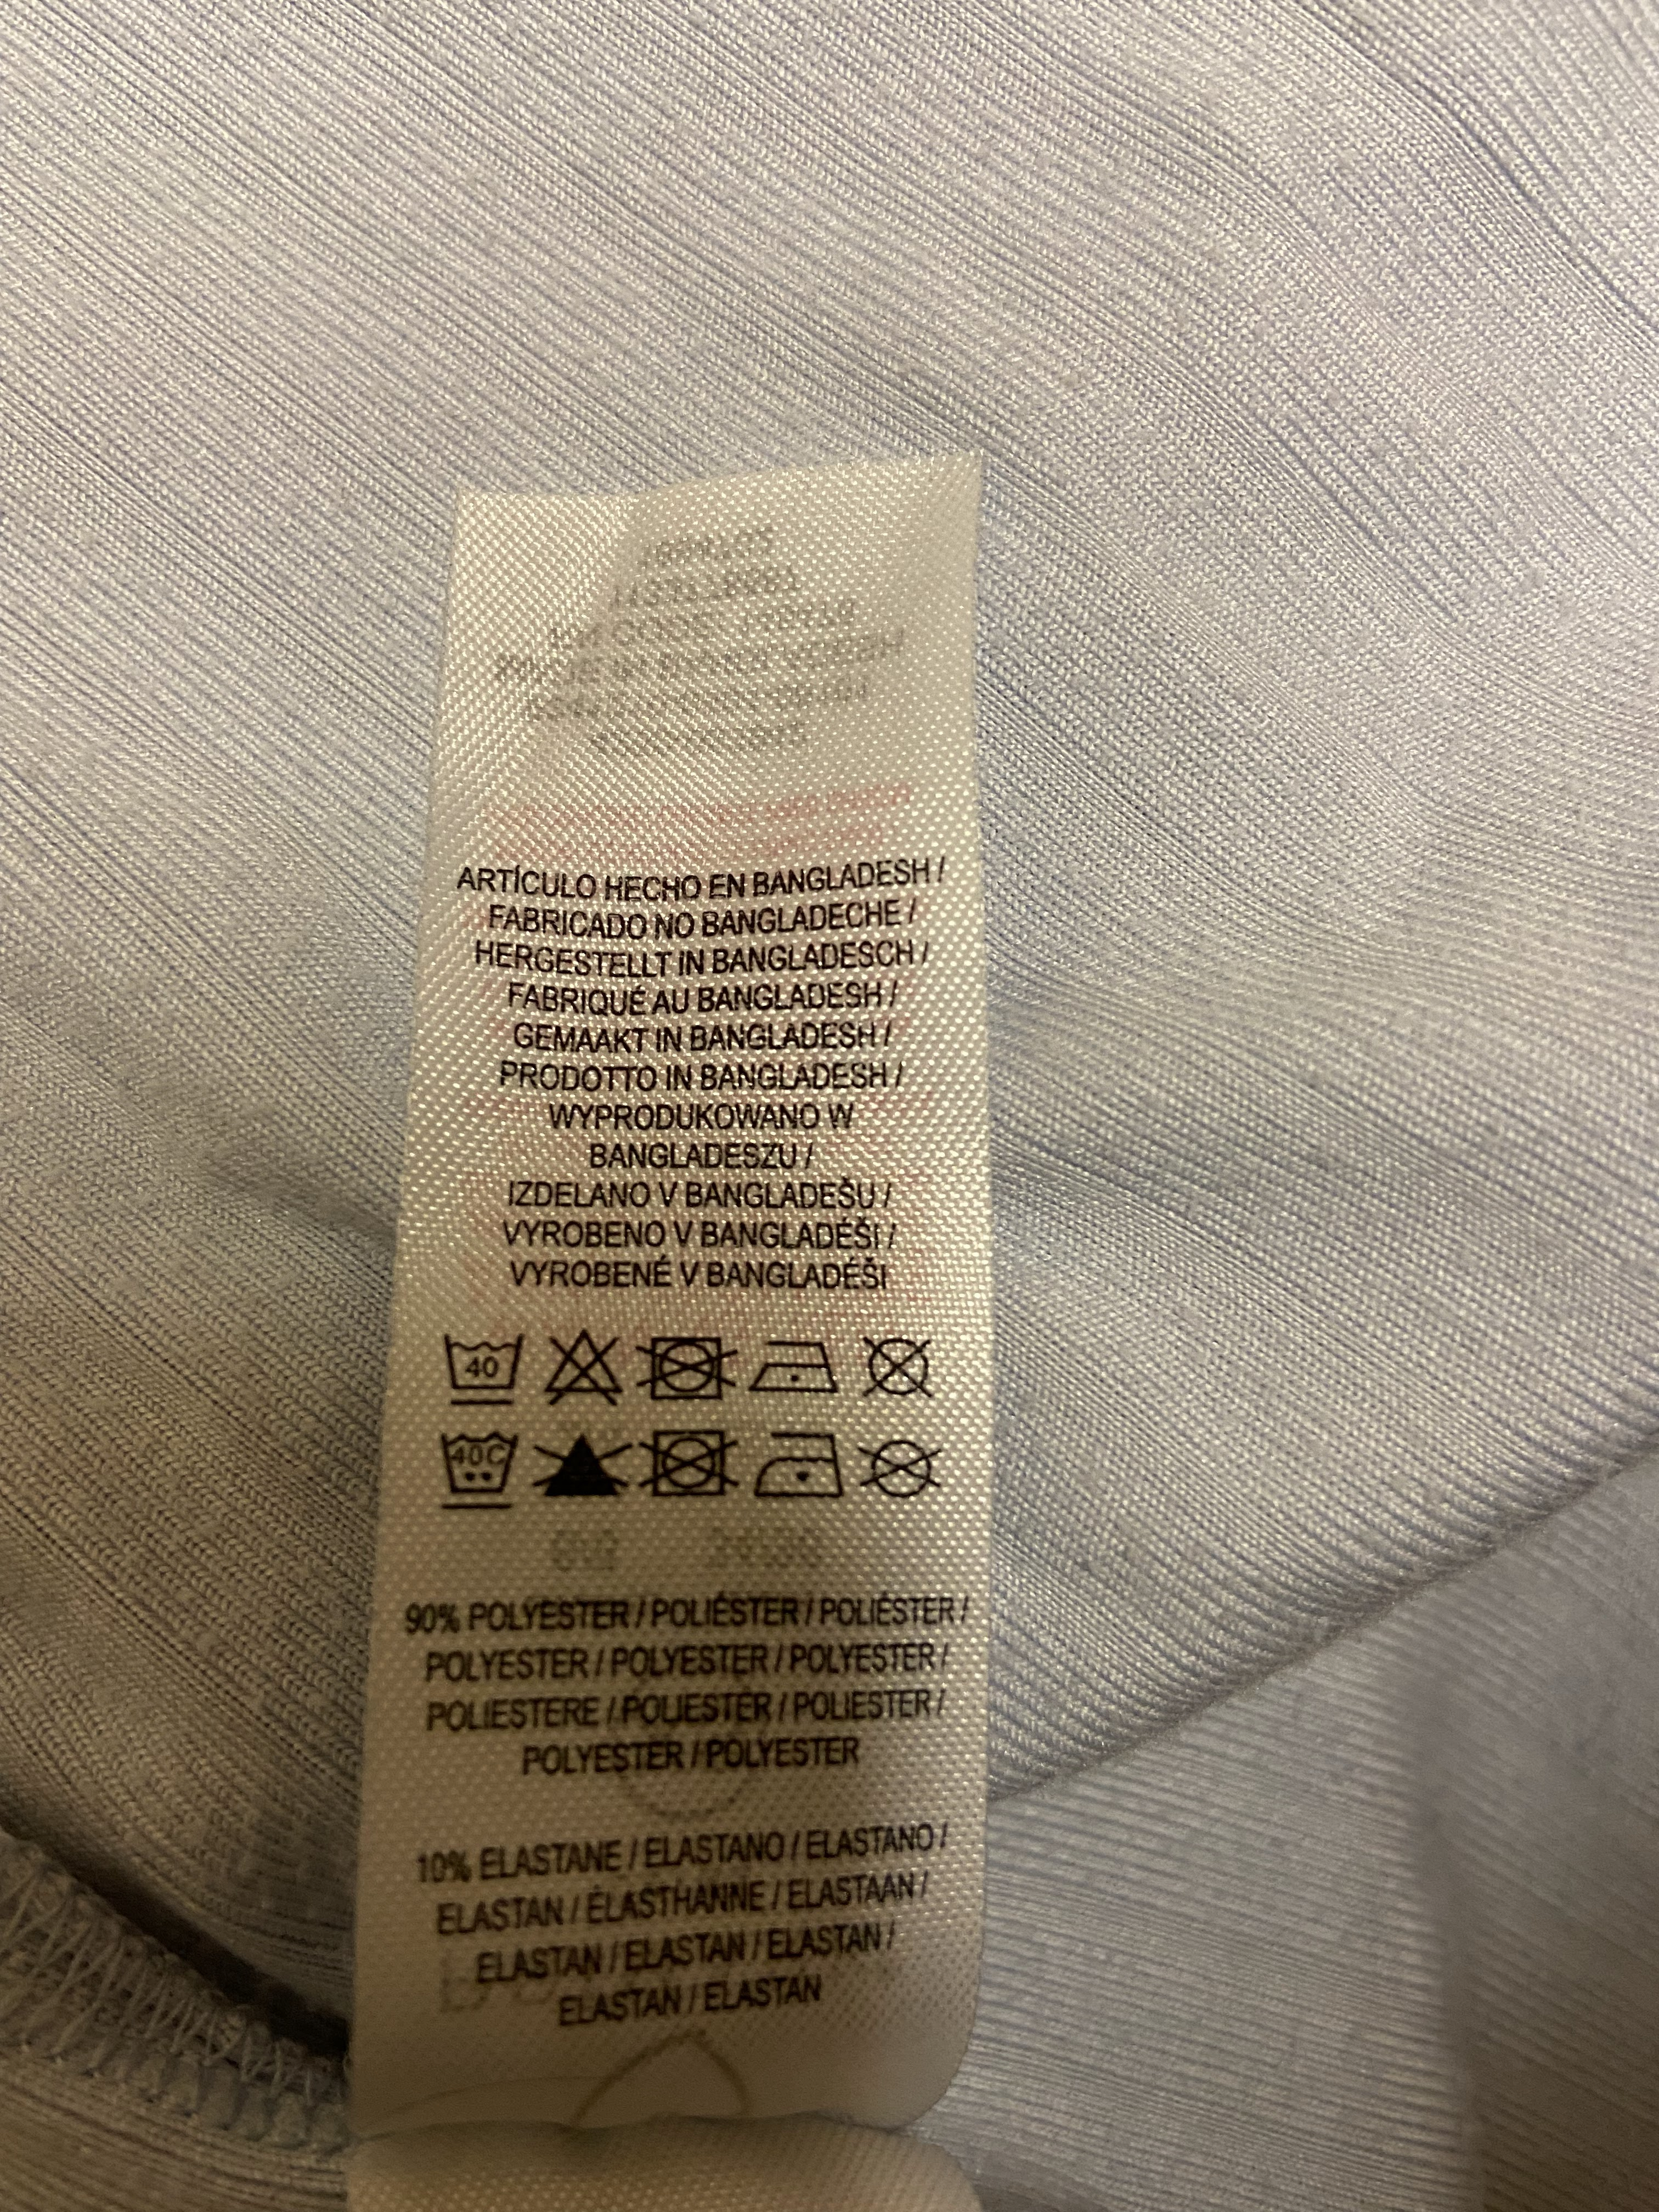do not bleach: (526, 1299, 620, 1420)
do not dry clean: (850, 1324, 978, 1406)
do not tumble dry: (631, 1313, 742, 1425)
iron low temp: (734, 1329, 843, 1404)
wash at or below 40: (425, 1301, 532, 1430)
